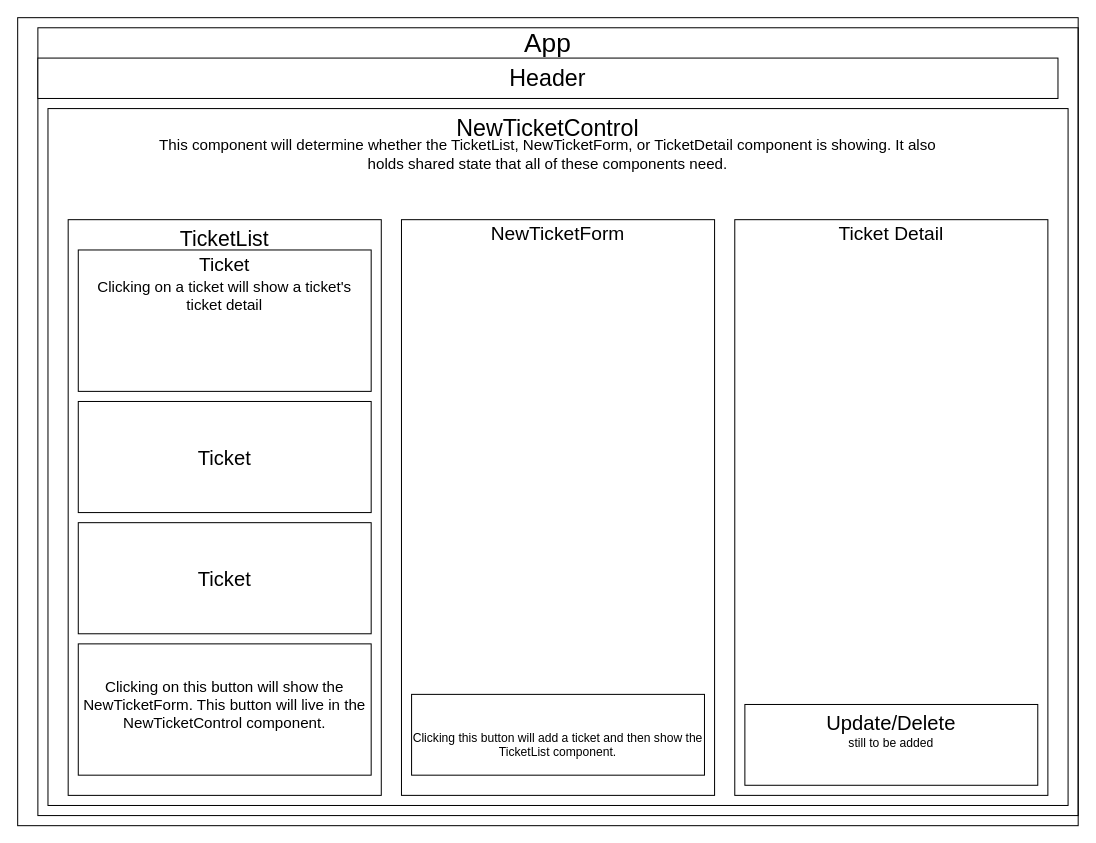
Some shapes in this 1096 by 843 pixel diagram are drawn without their labels. Each missing label, with the box of its shape:
Add Ticket: (77, 643, 371, 775)
Submit: (411, 693, 704, 775)
